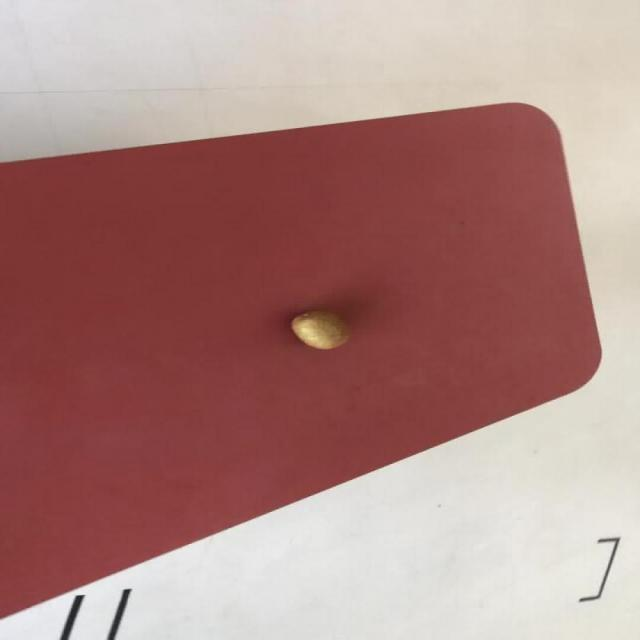Kiwi: (288, 310, 349, 348)
